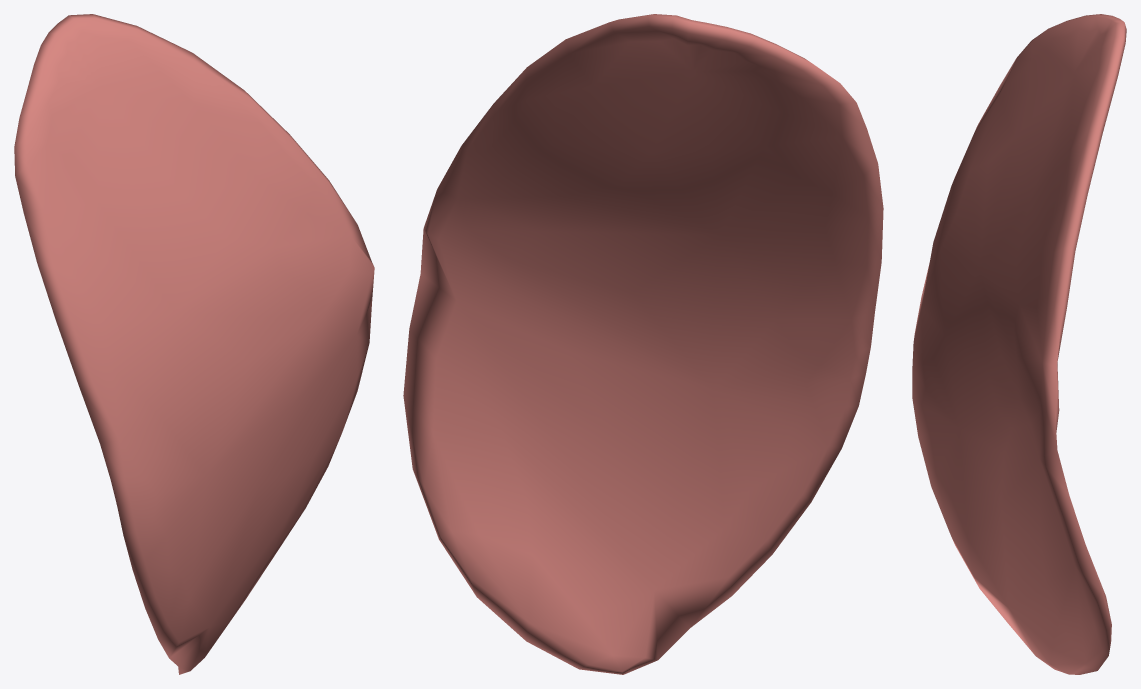
3 renders of one model, left to right at view 1: azimuth 30°, elevation 25°; view 2: azimuth 150°, elevation 25°; view 3: azimuth 270°, elevation 25°, orthographic. The views are drawn at different scales.
Visible parts, largest first — view 1: ZA_70ab59b312276b93; view 2: ZA_70ab59b312276b93; view 3: ZA_70ab59b312276b93.
Part boxes in pixels (left/top/right/bottom): ZA_70ab59b312276b93: left=14, top=14, right=374, bottom=674; ZA_70ab59b312276b93: left=403, top=14, right=883, bottom=674; ZA_70ab59b312276b93: left=912, top=14, right=1126, bottom=674.
Size of the model in its own units: 0.0105 by 0.0169 by 0.0054.
